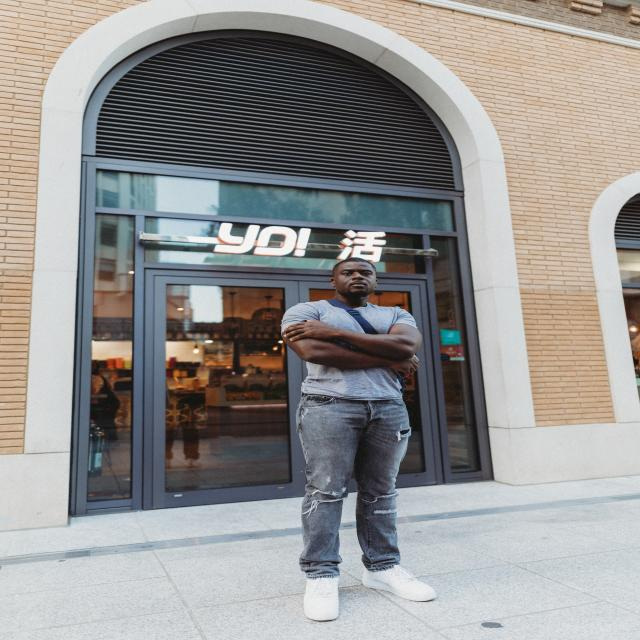standing: (284, 255, 440, 625)
